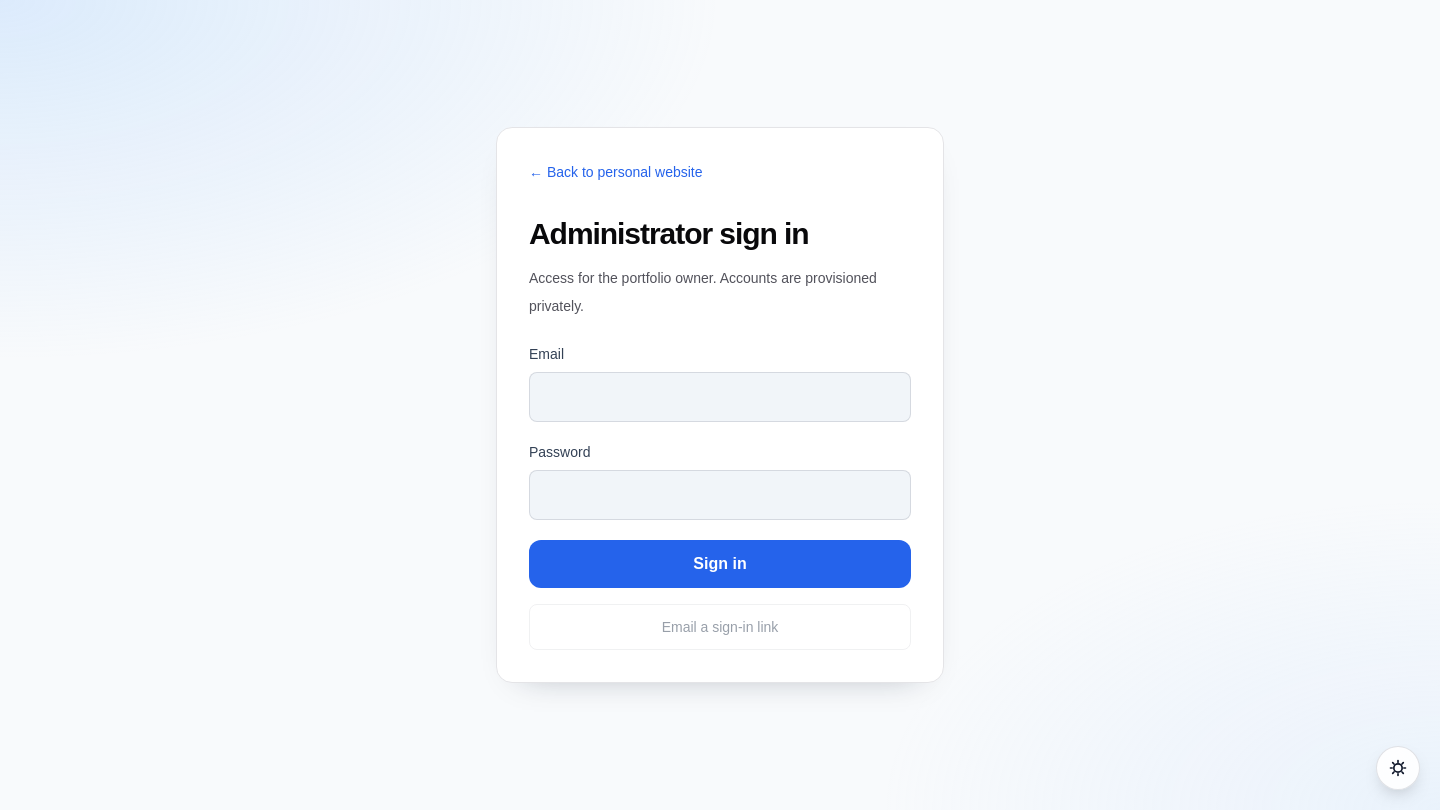
Test: administrator login choices › explains restricted email delivery without revealing the provider message
The image size is (1440, 810).
Type "owner@example.com" into the field labelled "Email". click: (720, 397)
box: left=529, top=372, right=911, bottom=422
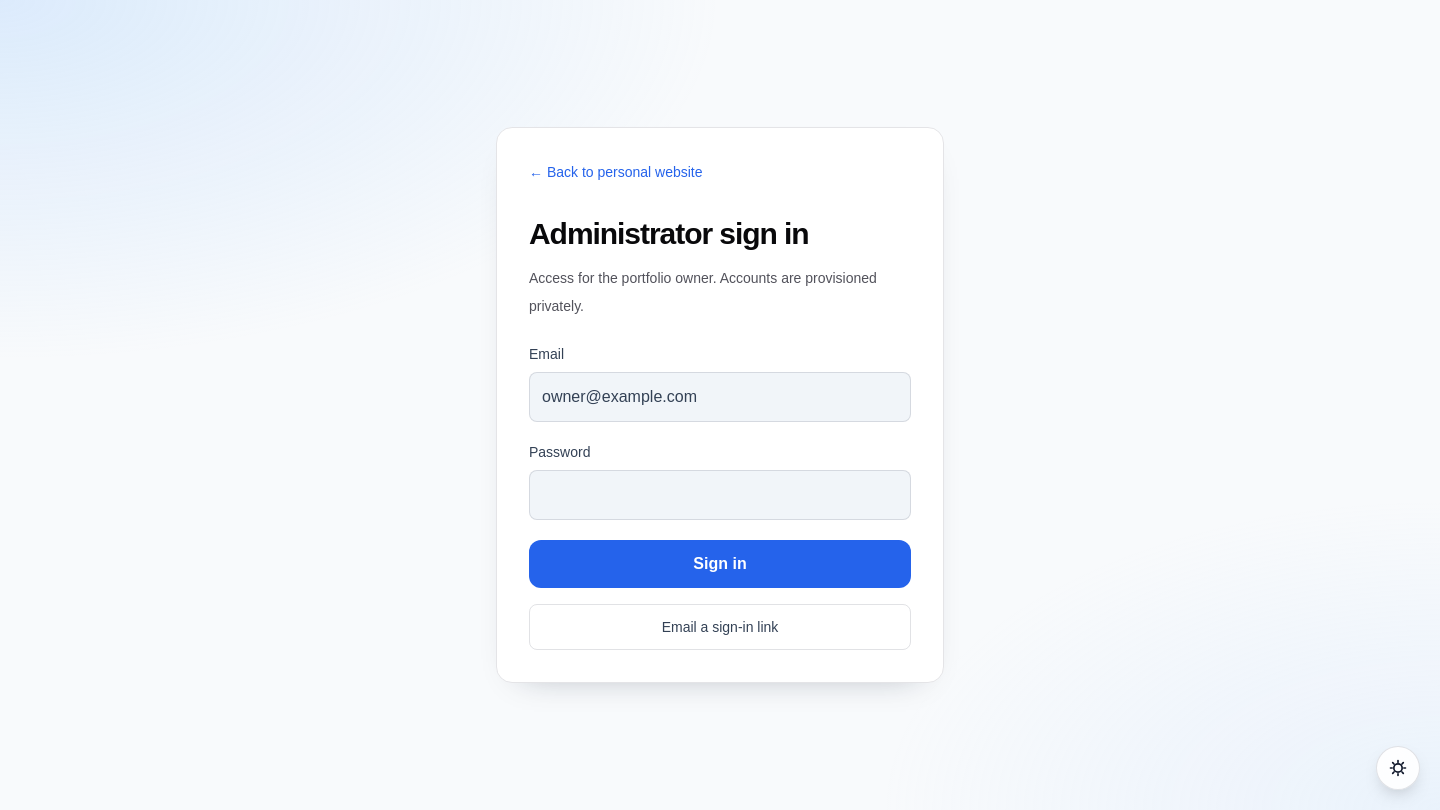
Click the button "Email a sign-in link". click: (720, 627)
box: left=529, top=604, right=911, bottom=650
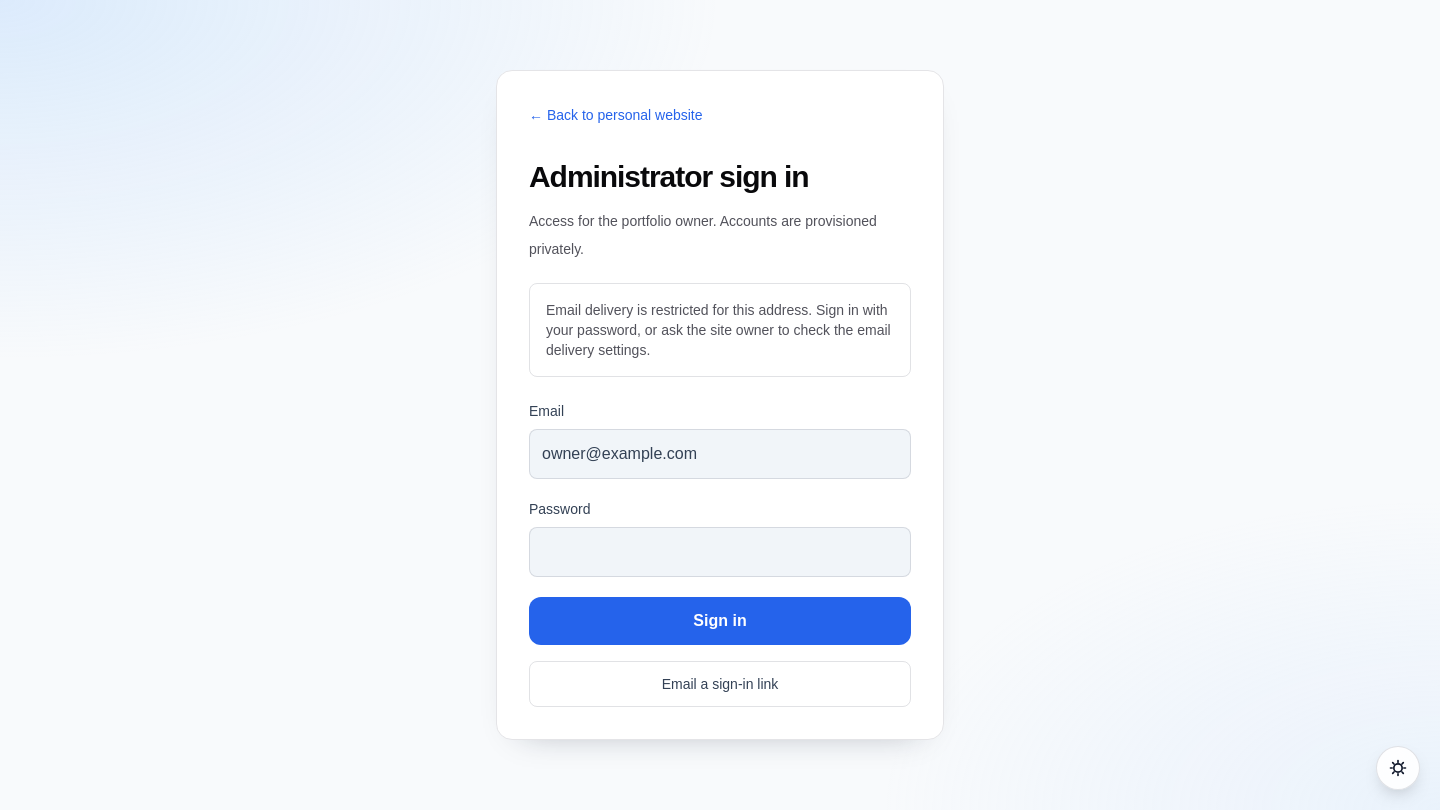
Check: the message shows "Email delivery is restricted", box left=546, top=302, right=891, bottom=358
Check: the message shows "Sign in with your password", box left=546, top=302, right=891, bottom=358
